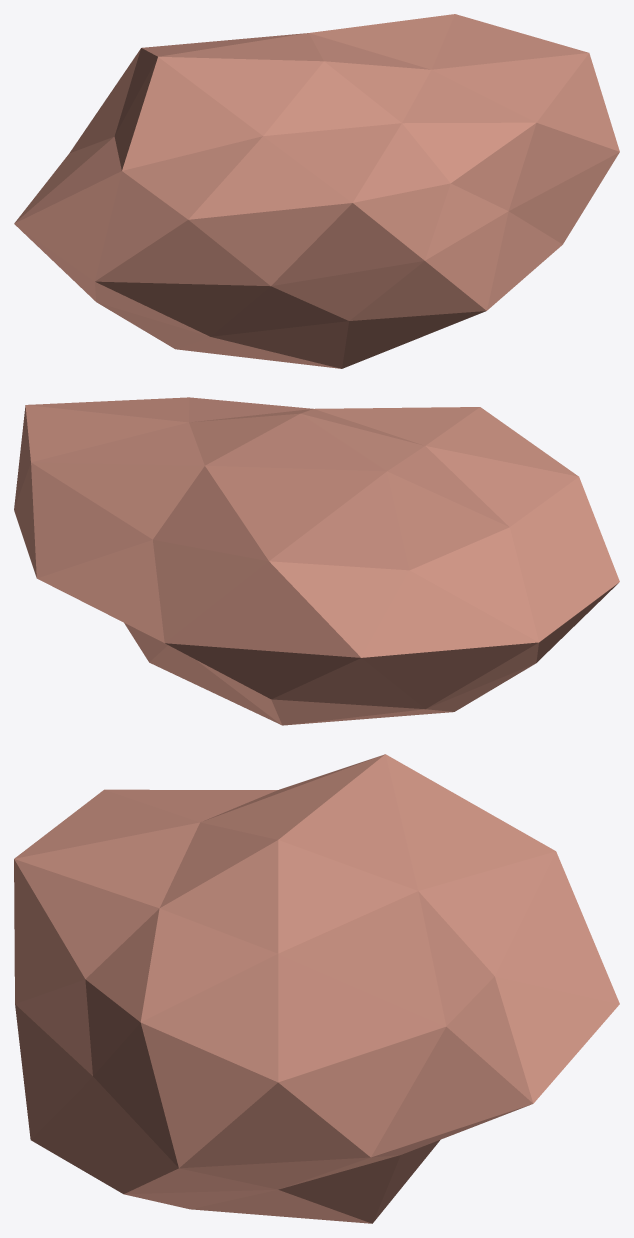
File: sten_3.glb
3 renders of one model, top to bottom at view 1: azimuth 30°, elevation 25°; view 2: azimuth 150°, elevation 25°; view 3: azimuth 270°, elevation 25°, orthographic. The views are drawn at different scales.
Parts seen in each view (by area): view 1: sten_3; view 2: sten_3; view 3: sten_3.
Boxes of the visible parts, x1,y1,x2,y2 form: sten_3: (14,14,619,368); sten_3: (14,397,619,725); sten_3: (14,754,619,1223).
Size of the model in its own units: 8 by 3.66 by 6.01.
